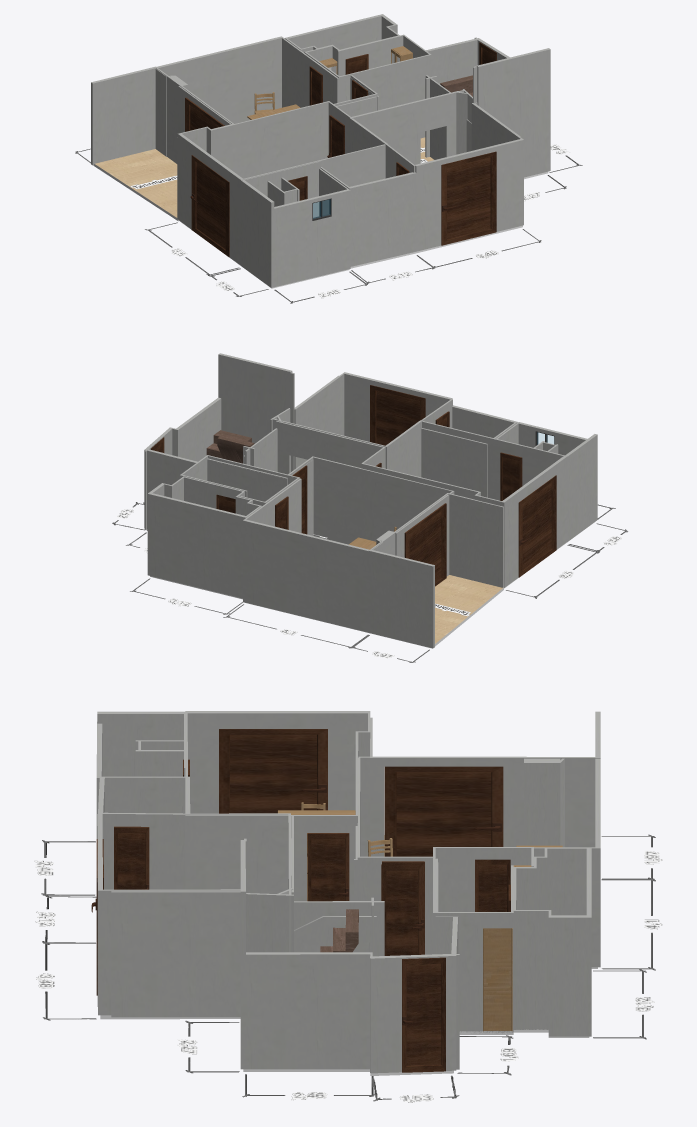
The model's file is scene-436a7bed-4277-4366-b6a8-6e76ef5b6b57.glb.
3 renders of one model, top to bottom at view 1: azimuth 30°, elevation 25°; view 2: azimuth 150°, elevation 25°; view 3: azimuth 270°, elevation 25°, orthographic. The views are drawn at different scales.
Visible parts, largest first — view 1: Duvar (×28), door_016 (×5), Oda (×2), styledPlanOverlay; view 2: Duvar (×25), door_016 (×5), Oda, styledPlanOverlay, stairs; view 3: Duvar (×26), door_016 (×8), styledPlanOverlay, storage, Oda, stairs.
Part boxes in pixels (<box>): Duvar (×28): <box>91,14,550,287</box>; door_016 (×5): <box>185,66,496,257</box>; Oda (×2): <box>93,137,548,268</box>; styledPlanOverlay: <box>75,144,582,303</box>; Duvar (×25): <box>144,353,597,648</box>; door_016 (×5): <box>292,385,556,586</box>; Oda: <box>369,575,503,648</box>; styledPlanOverlay: <box>112,502,627,662</box>; stairs: <box>217,435,254,463</box>; Duvar (×26): <box>97,711,600,1073</box>; door_016 (×8): <box>114,729,510,1072</box>; styledPlanOverlay: <box>34,834,662,1102</box>; storage: <box>483,928,512,1033</box>; Oda: <box>100,1015,453,1075</box>; stairs: <box>320,909,358,952</box>.
Size of what is drawn, in the model's own units: 0.7208 by 0.1954 by 0.6498.
22 materials, 17 textured.
